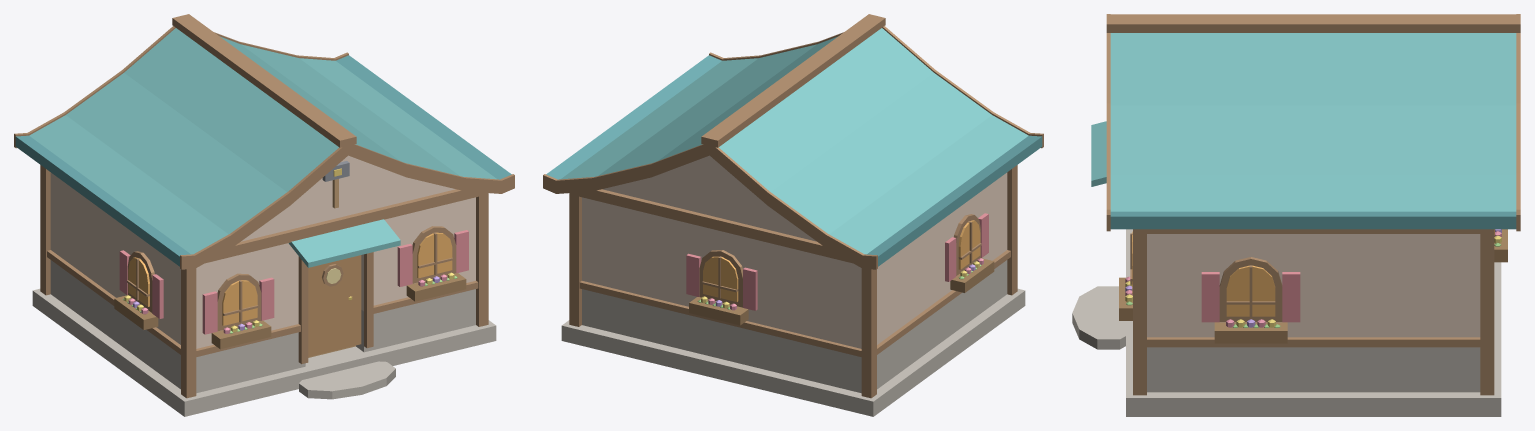
Rendered from forge_peach.glb.
3 renders of one model, left to right at view 1: azimuth 30°, elevation 25°; view 2: azimuth 150°, elevation 25°; view 3: azimuth 270°, elevation 25°, orthographic. The views are drawn at different scales.
Visible parts, largest first — view 1: Player; view 2: Player; view 3: Player.
Part boxes in pixels (<box>): Player: <box>14,14,514,416</box>; Player: <box>543,14,1043,416</box>; Player: <box>1072,14,1520,416</box>.
Bounding box in the file's own units: 6.84 × 4.82 × 6.45.
